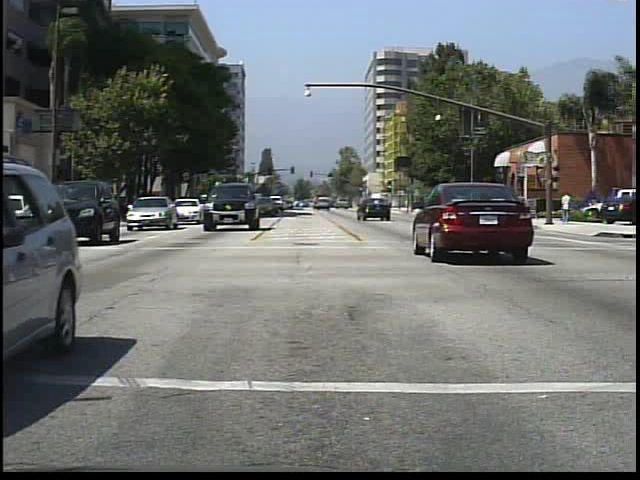person: (512, 190, 529, 227), (558, 188, 575, 224)
